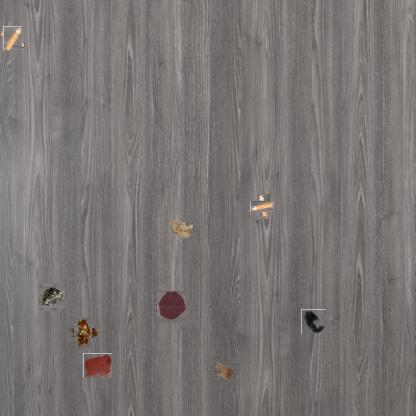dirty: (70, 320, 96, 346), (301, 309, 326, 334), (38, 285, 64, 309), (167, 220, 193, 240), (214, 359, 236, 381), (2, 27, 23, 50), (254, 197, 272, 216)
liquid: (156, 292, 187, 322), (83, 353, 112, 378)
